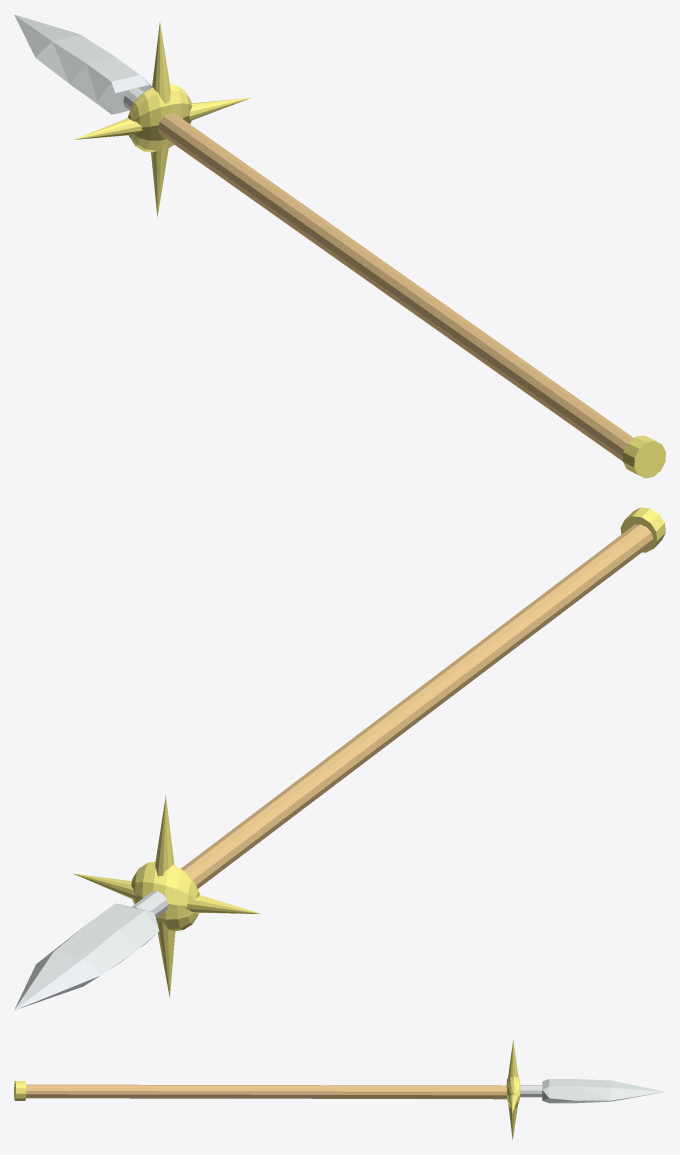
Rendered from Spear Gold.glb.
3 renders of one model, top to bottom at view 1: azimuth 30°, elevation 25°; view 2: azimuth 150°, elevation 25°; view 3: azimuth 270°, elevation 25°, orthographic. The views are drawn at different scales.
Parts seen in each view (by area): view 1: group893075455, group2055073732, group910683261, group1074542139, group148321463, group1614451537, group173839703; view 2: group893075455, group2055073732, group910683261, group1074542139, group148321463, group1614451537, group173839703; view 3: group893075455, group2055073732, group910683261, group572283259, group1074542139, group148321463.
Part boxes in pixels (box(x1,y1,x2,y2)): group893075455: box(158, 113, 633, 461); group2055073732: box(14, 14, 151, 114); group910683261: box(127, 84, 192, 152); group1074542139: box(623, 435, 665, 478); group148321463: box(152, 22, 170, 103); group1614451537: box(73, 118, 142, 139); group173839703: box(151, 143, 168, 217); group893075455: box(181, 524, 653, 888); group2055073732: box(14, 903, 159, 1010); group910683261: box(131, 861, 199, 931); group1074542139: box(620, 507, 665, 552); group148321463: box(155, 796, 174, 876); group1614451537: box(185, 895, 260, 913); group173839703: box(157, 921, 175, 998); group893075455: box(26, 1084, 507, 1099); group2055073732: box(542, 1079, 665, 1103); group910683261: box(506, 1076, 520, 1108); group572283259: box(520, 1085, 542, 1097); group1074542139: box(14, 1081, 26, 1100); group148321463: box(507, 1040, 518, 1080).
Bounding box in the file's own units: 0.636 × 0.658 × 3.8.
